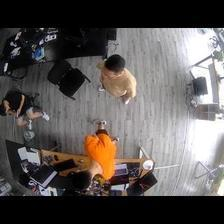normal: (77, 118, 119, 184), (96, 54, 136, 106)
